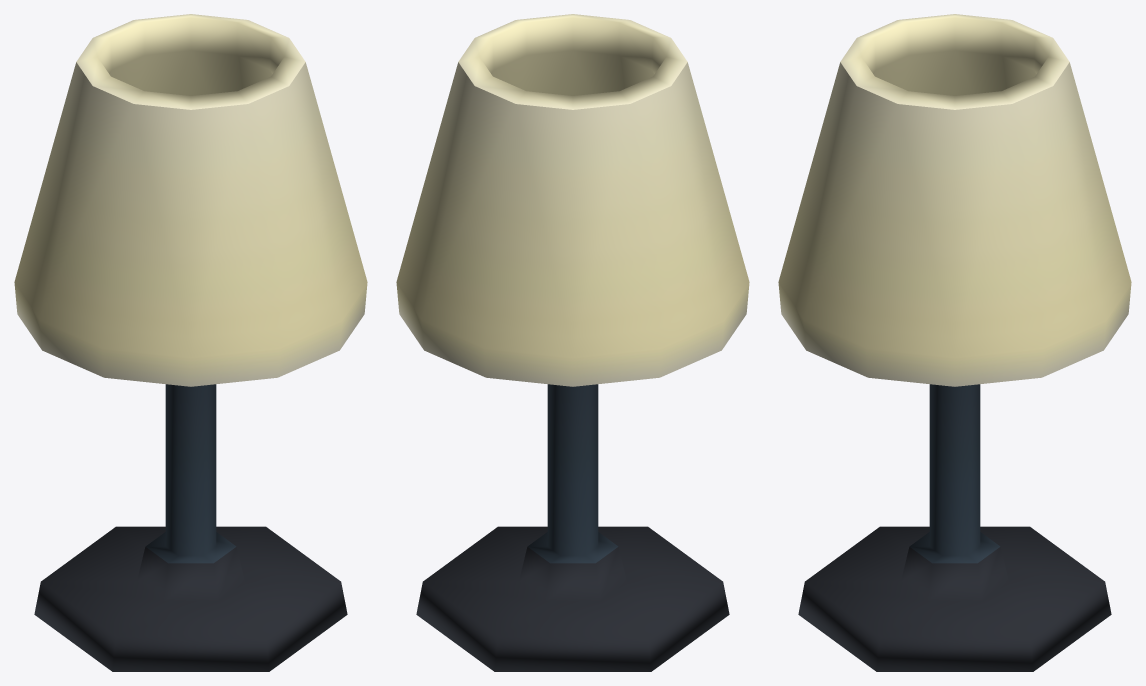
Rendered from PP_Lamp1.fbx.
3 renders of one model, left to right at view 1: azimuth 30°, elevation 25°; view 2: azimuth 150°, elevation 25°; view 3: azimuth 270°, elevation 25°, orthographic.
Visible parts, largest first — view 1: Lamp_01; view 2: Lamp_01; view 3: Lamp_01.
Boxes of the visible parts, box(x1,y1,x2,y2) form: Lamp_01: box(14, 14, 367, 671); Lamp_01: box(396, 14, 749, 671); Lamp_01: box(778, 14, 1131, 671).
Size of the model in its own units: 27.56 by 48.53 by 27.85.
